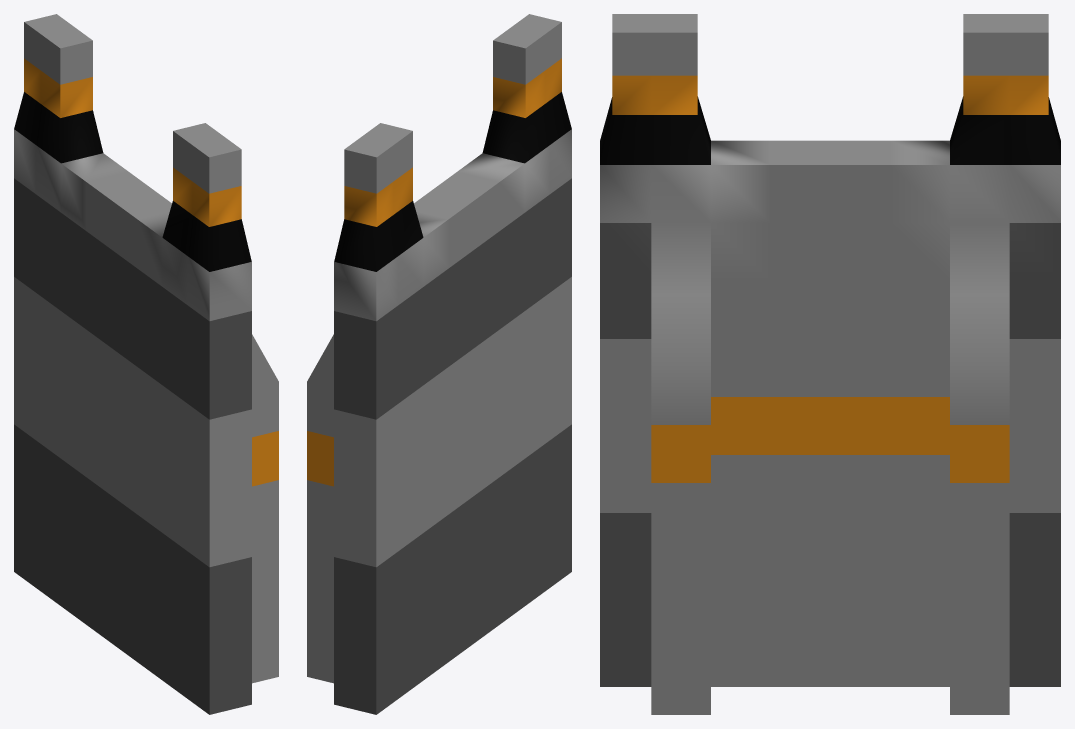
File: Environment2_Wall_BasicWall1.fbx
3 views of the same model, side by side, from view 1: azimuth 30°, elevation 25°; view 2: azimuth 150°, elevation 25°; view 3: azimuth 270°, elevation 25° (orthographic). The views are drawn at different scales.
Parts seen in each view (by area): view 1: Wall; view 2: Wall; view 3: Wall.
Part boxes in pixels (x1,y1,x2,y2): Wall: (14,14,278,714); Wall: (307,14,571,714); Wall: (600,14,1060,714).
Bounding box in the file's own units: 431 × 2496 × 1600.
